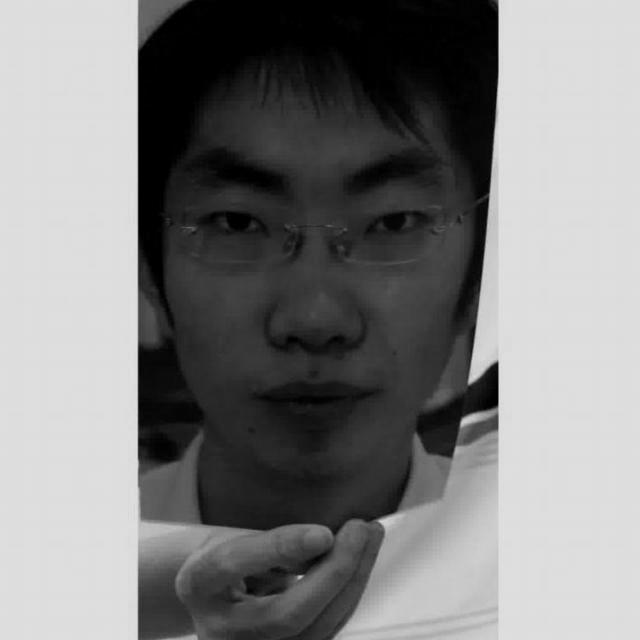fake: (138, 0, 500, 535)
